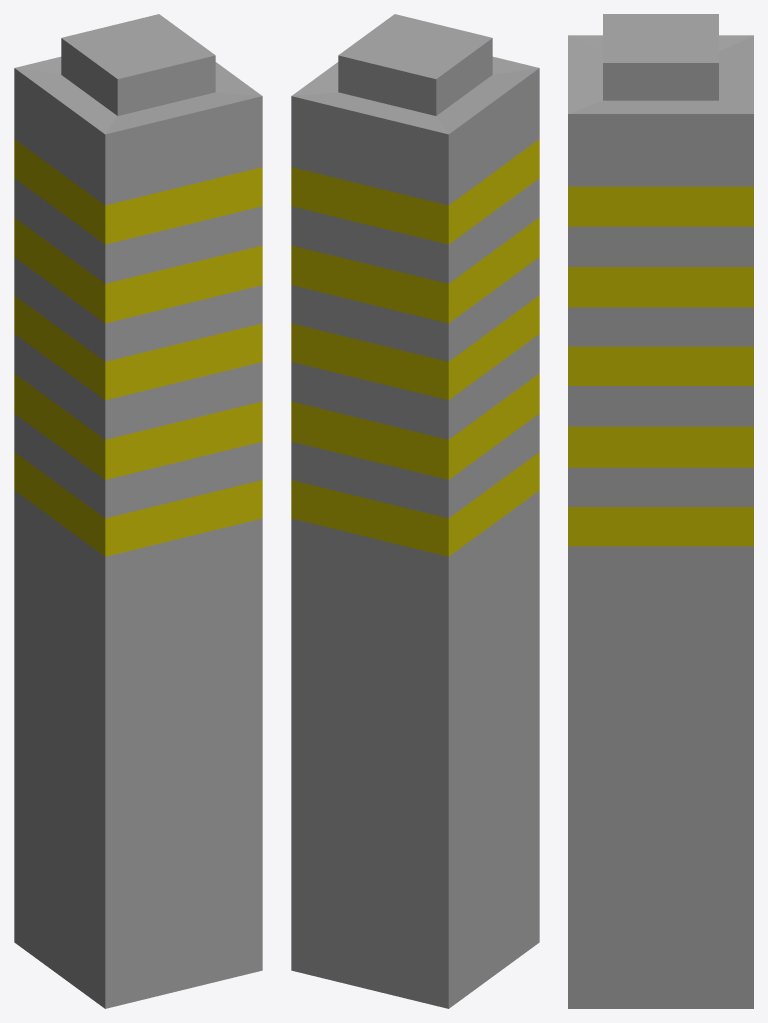
The model's file is building_1.fbx.
3 renders of one model, left to right at view 1: azimuth 30°, elevation 25°; view 2: azimuth 150°, elevation 25°; view 3: azimuth 270°, elevation 25°, orthographic. The views are drawn at different scales.
Parts seen in each view (by area): view 1: pCube1; view 2: pCube1; view 3: pCube1.
Part boxes in pixels (x1,y1,x2,y2): pCube1: (14, 14, 262, 1008); pCube1: (291, 14, 539, 1008); pCube1: (568, 14, 753, 1008).
Bounding box in the file's own units: 12.63 × 69.81 × 12.63.
